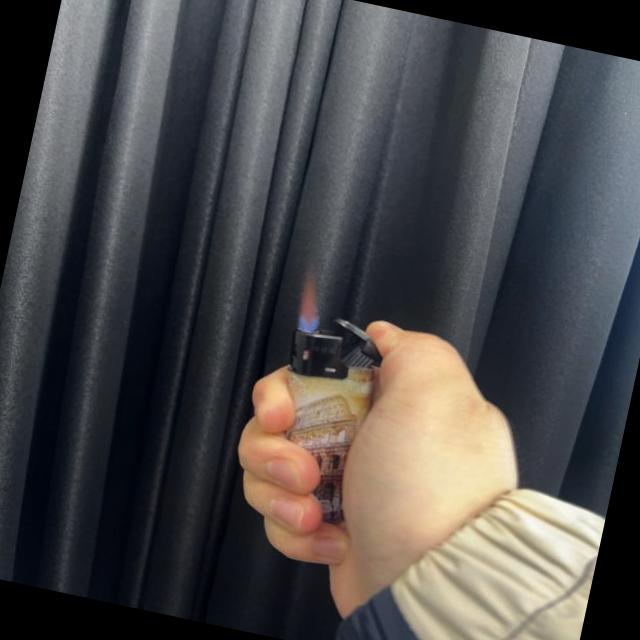fire: (290, 268, 329, 334)
